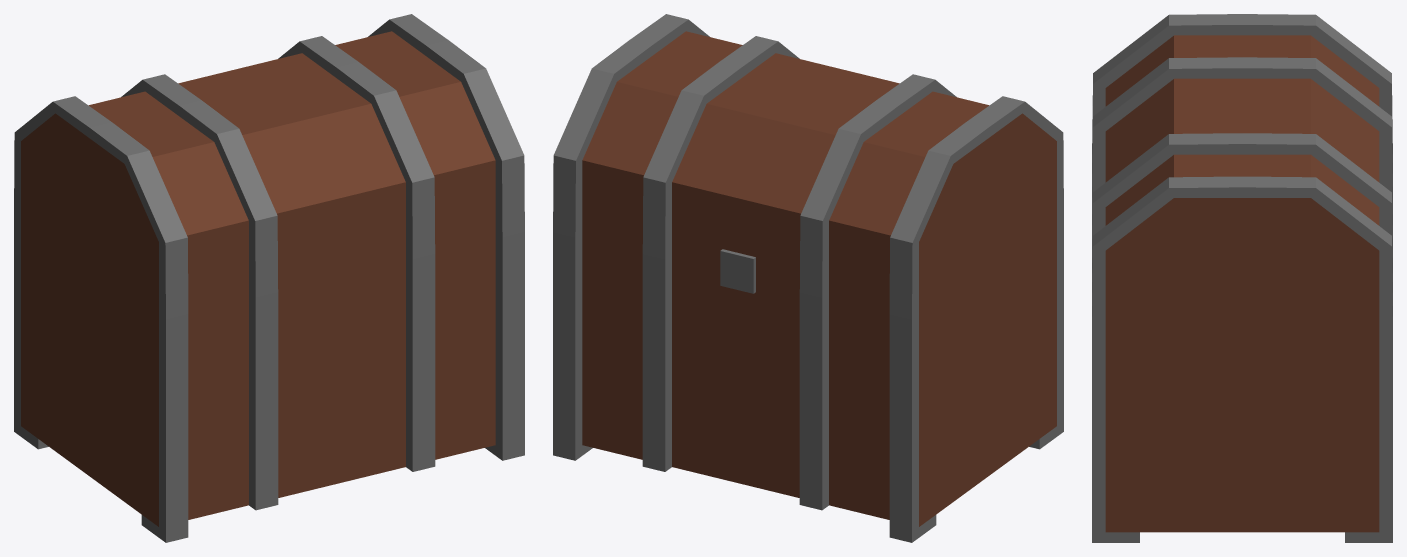
Rendered from Chest.fbx.
The picture shows the model from 3 angles, left to right: view 1: azimuth 30°, elevation 25°; view 2: azimuth 150°, elevation 25°; view 3: azimuth 270°, elevation 25°; orthographic projection.
Visible parts, largest first — view 1: Chest, Lid; view 2: Chest, Lid; view 3: Lid, Chest.
Boxes of the visible parts, box(x1,y1,x2,y2) form: Chest: box(14, 208, 524, 542); Lid: box(14, 14, 524, 319); Chest: box(553, 208, 1063, 542); Lid: box(553, 14, 1063, 319); Lid: box(1092, 14, 1392, 321); Chest: box(1092, 159, 1392, 542).
Bounding box in the file's own units: 300 × 287 × 220.
